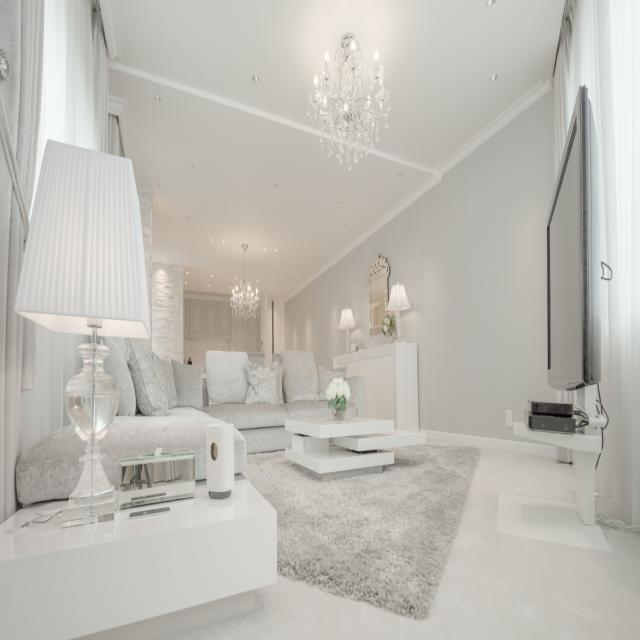white desk: (8, 465, 283, 640)
